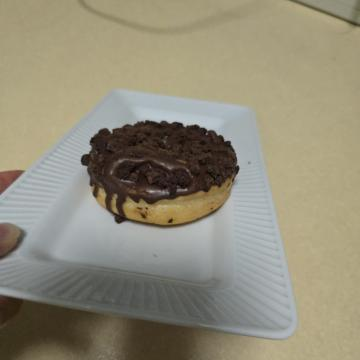doughnut: (102, 105, 235, 288)
